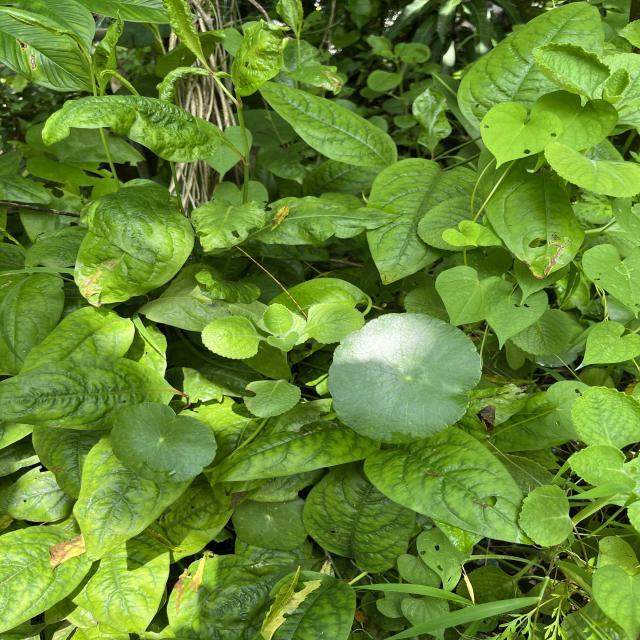Bacopa monnieri: (326, 308, 487, 446), (109, 400, 219, 485), (230, 491, 309, 552)
